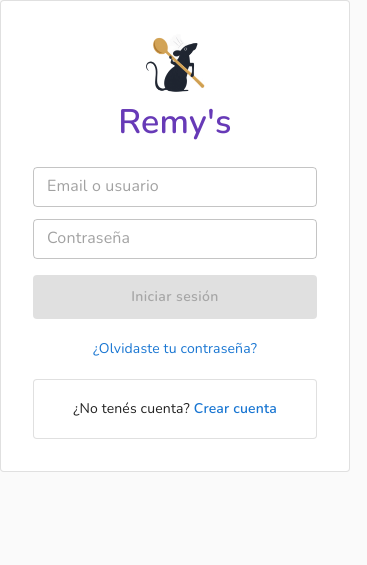
Test: AuthContext in Spanish › should fall back to the Spanish message when the login route sends no code and no error
The width and height of the screenshot is (367, 565).
Type "chef" into the field with placeholder "Email o usuario". click: (175, 187)
box: [33,167,317,207]
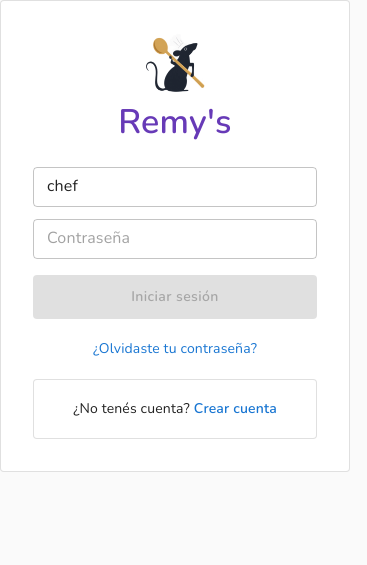
Type "Password1" into the password field with placeholder "Contraseña". click: (175, 239)
box: [33,219,317,259]
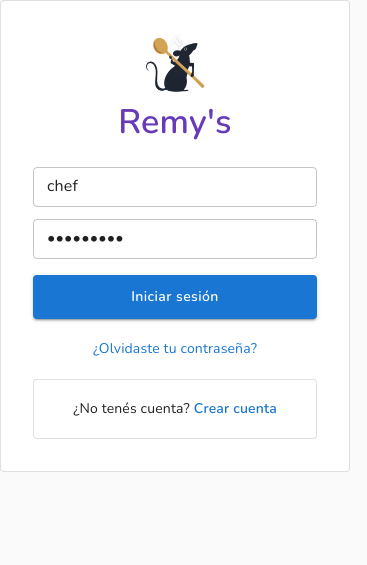
Click the button "Iniciar sesión". click: (175, 297)
box: [33,275,317,319]
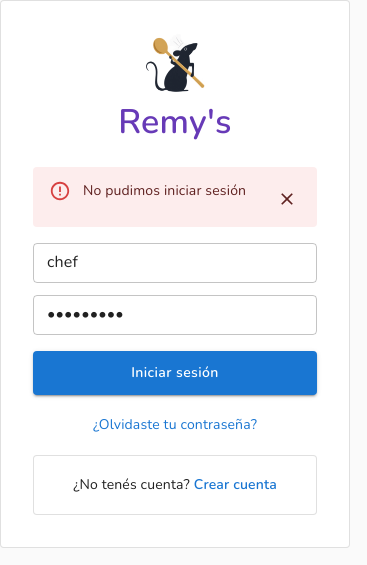
Result: the text "No pudimos iniciar sesión" is shown at [83,181,246,200]
